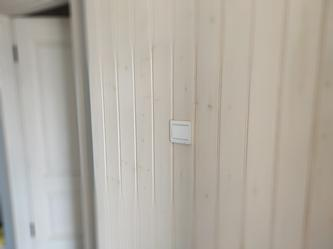switch: (168, 122, 192, 142)
